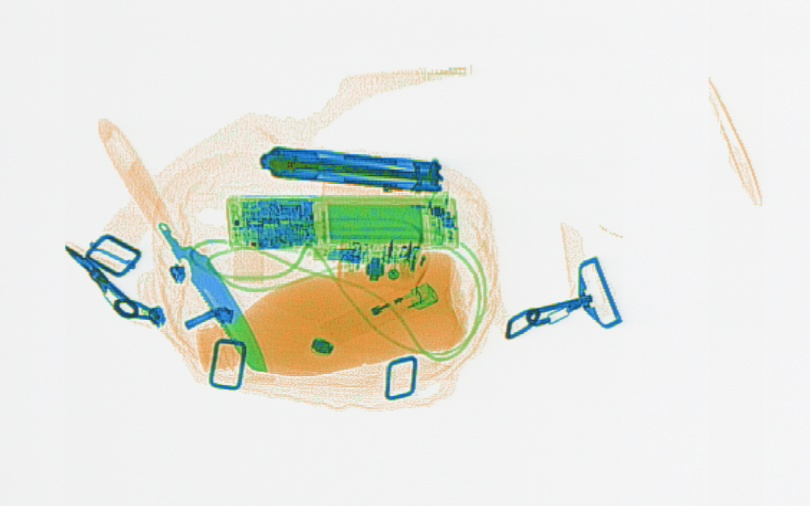knife: (97, 117, 267, 373), (259, 145, 444, 192)
lighter: (319, 280, 438, 346)
